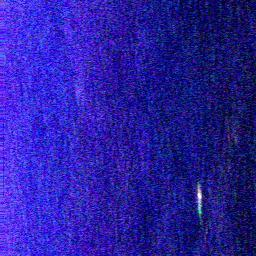Ship: (193, 184, 206, 214)
